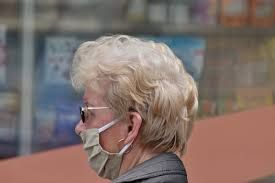with-mask: (62, 80, 170, 183)
